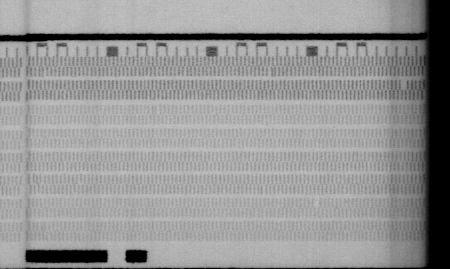Broken hole: (311, 197, 323, 209), (399, 79, 409, 92)
Oblique printing: (150, 102, 164, 115), (75, 172, 87, 187), (32, 172, 44, 187), (256, 184, 269, 196), (266, 65, 277, 77)
